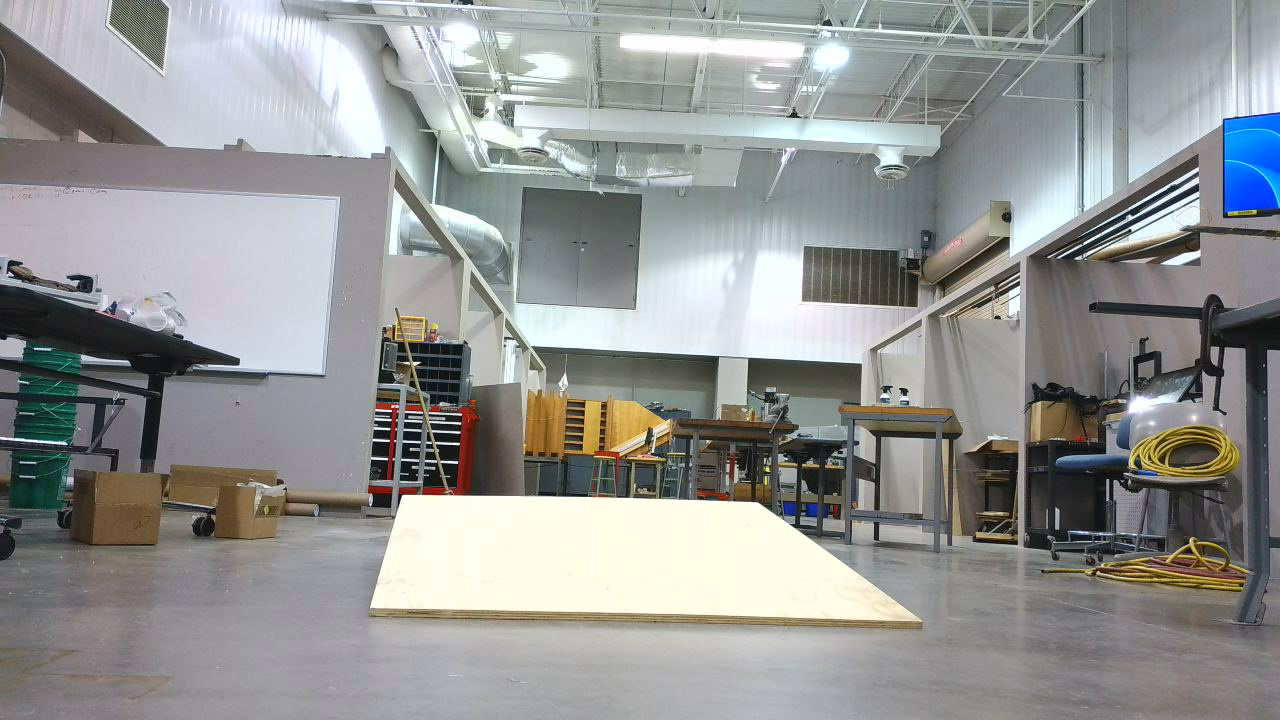ramp: (372, 497, 944, 638)
